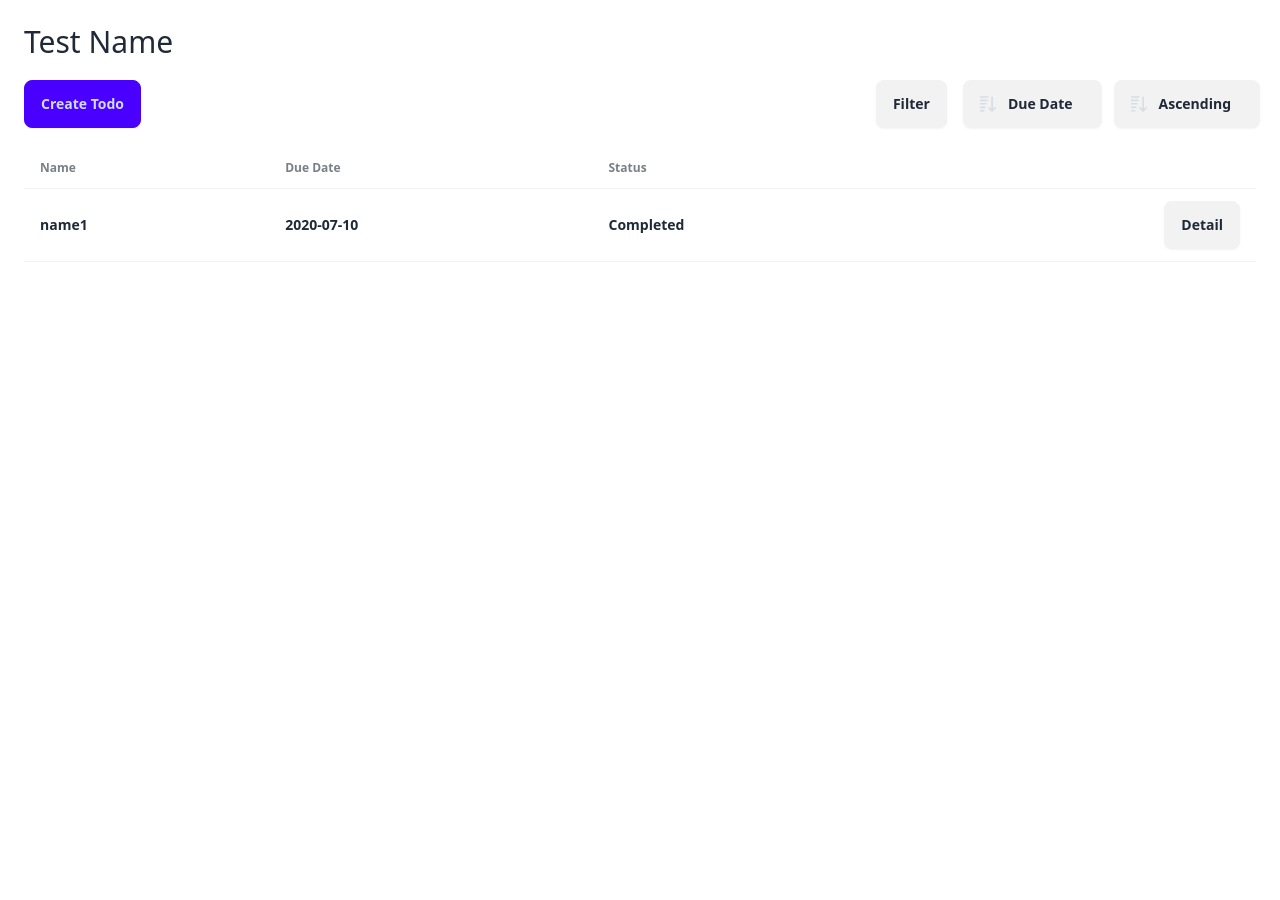
Scenario: TodoListPage › create › should show create todo popup when clicking create
This screenshot has width=1280, height=900.
Click the button "Create Todo" at (82,104), box x1=24 y1=80 x2=141 y2=128
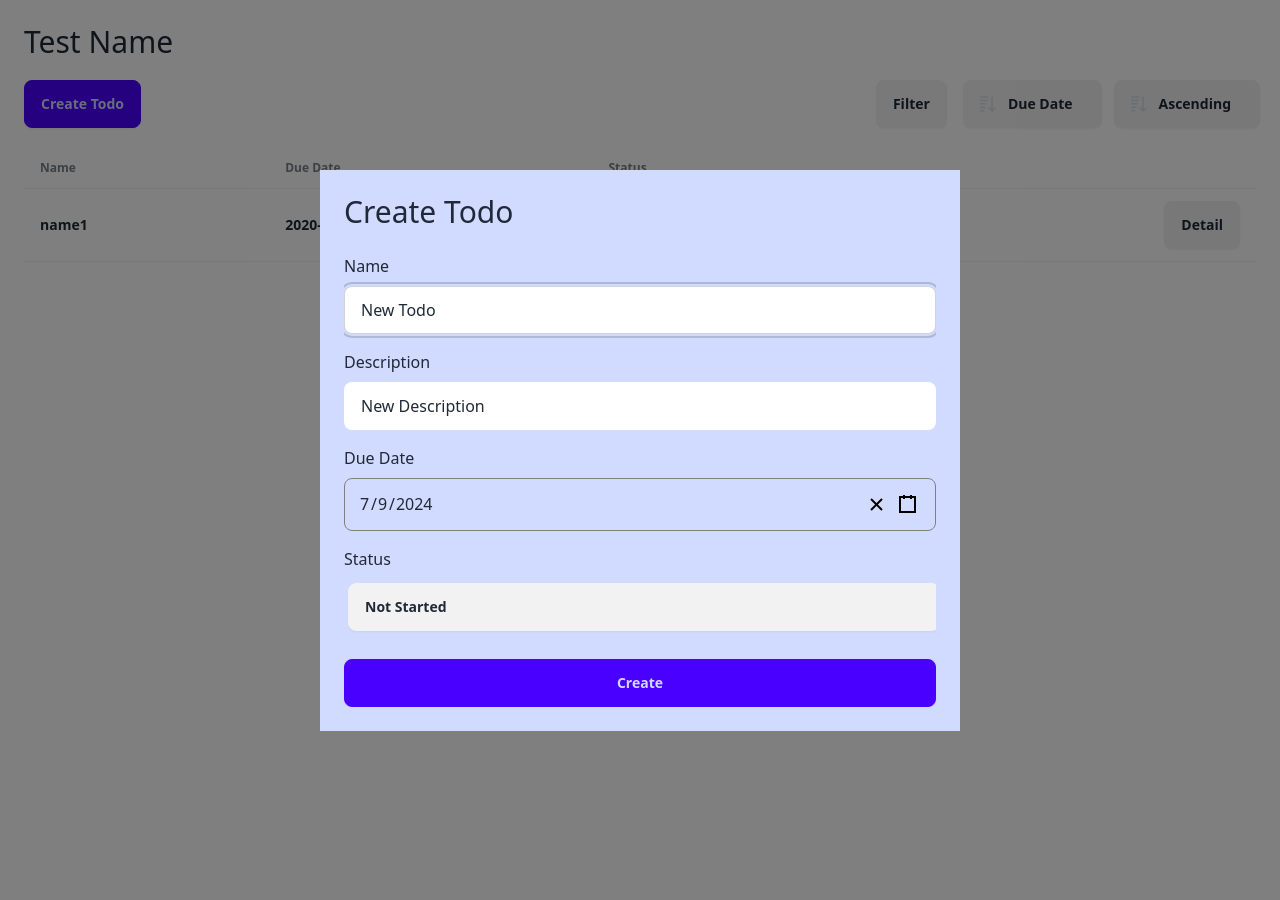
Expected: the text "Name" is shown, x1=344 y1=254 x2=389 y2=276
Expected: the text "Description" is shown, x1=344 y1=350 x2=430 y2=372
Expected: the text "Status" is shown, x1=344 y1=548 x2=391 y2=570
